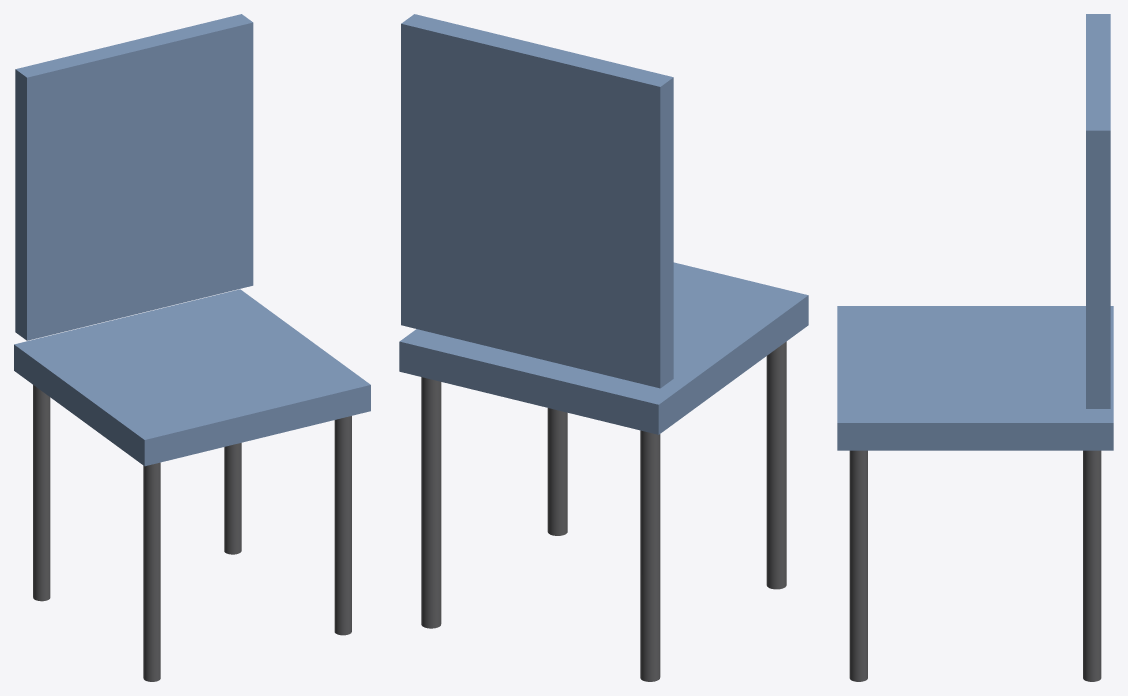
The model's file is modern_chair.glb.
The picture shows the model from 3 angles, left to right: view 1: azimuth 30°, elevation 25°; view 2: azimuth 150°, elevation 25°; view 3: azimuth 270°, elevation 25°; orthographic projection. The views are drawn at different scales.
Parts seen in each view (by area): view 1: modern_chair; view 2: modern_chair; view 3: modern_chair.
Part boxes in pixels (x1,y1,x2,y2): modern_chair: (14,14,370,681); modern_chair: (399,14,808,681); modern_chair: (837,14,1113,681).
Size of the model in its own units: 0.45 by 1 by 0.45.
